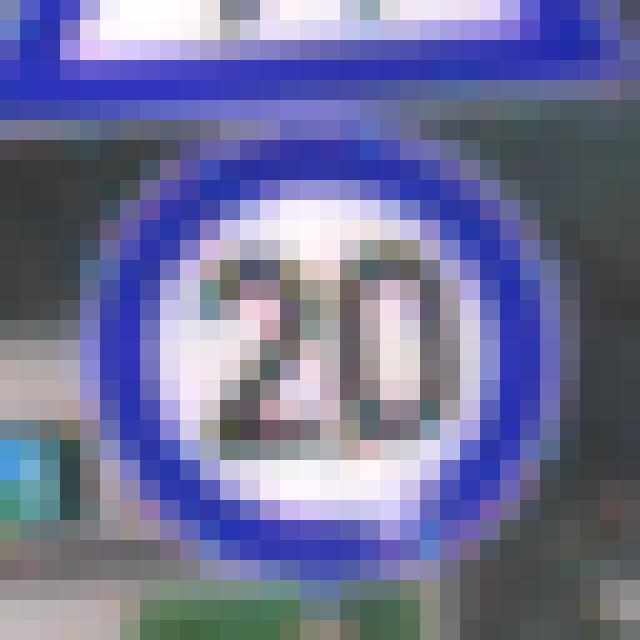SPEED LIMIT 20: (88, 137, 574, 563)
